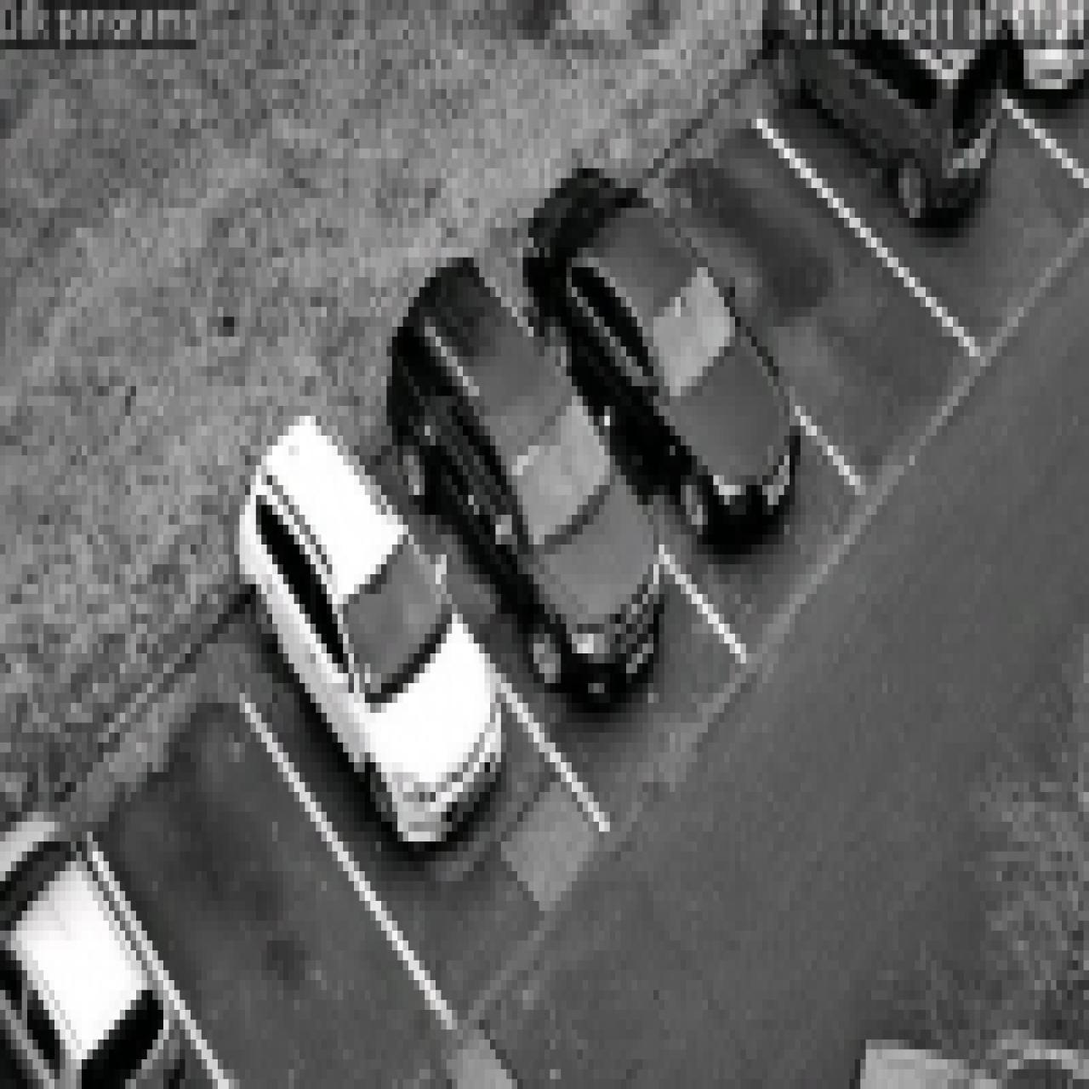cars: (248, 500, 547, 945), (403, 361, 681, 787), (517, 213, 790, 639), (790, 0, 1046, 297), (0, 801, 168, 1089)
empty: (79, 688, 395, 1074), (664, 119, 947, 475)
